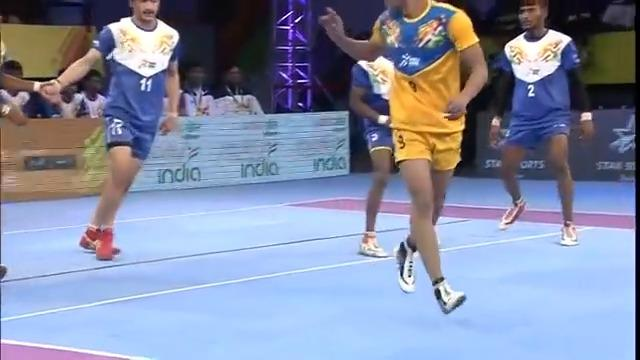Player: (39, 0, 182, 260), (487, 0, 594, 246), (347, 56, 397, 258)
Raider: (317, 0, 489, 314)
referee: (208, 64, 264, 115), (177, 63, 213, 116)
